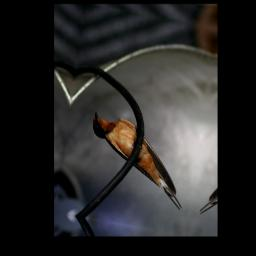Swallow: (79, 107, 195, 214)
